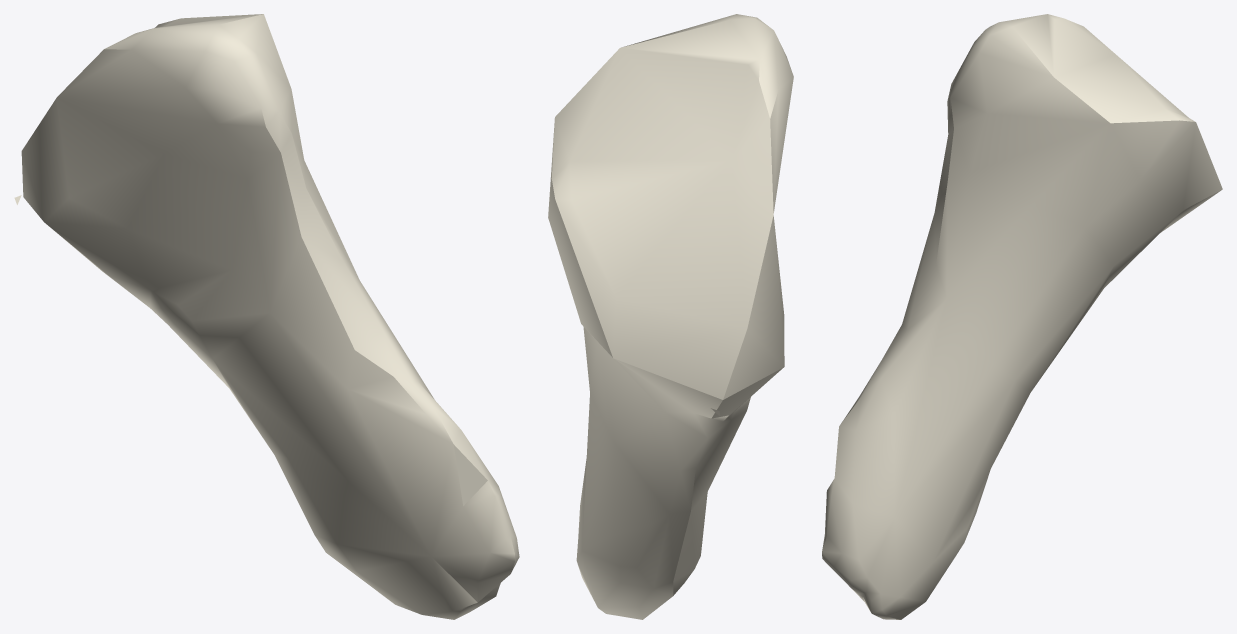
Rendered from fma23951_fj3188.glb.
The picture shows the model from 3 angles, left to right: view 1: azimuth 30°, elevation 25°; view 2: azimuth 150°, elevation 25°; view 3: azimuth 270°, elevation 25°; orthographic projection. The views are drawn at different scales.
Parts seen in each view (by area): view 1: FMA23951_FJ3188; view 2: FMA23951_FJ3188; view 3: FMA23951_FJ3188.
Part boxes in pixels (box(x1,y1,x2,y2)): FMA23951_FJ3188: box(14, 14, 519, 619); FMA23951_FJ3188: box(548, 14, 793, 619); FMA23951_FJ3188: box(822, 14, 1222, 619).
Size of the model in its own units: 0.0131 by 0.023 by 0.016.
